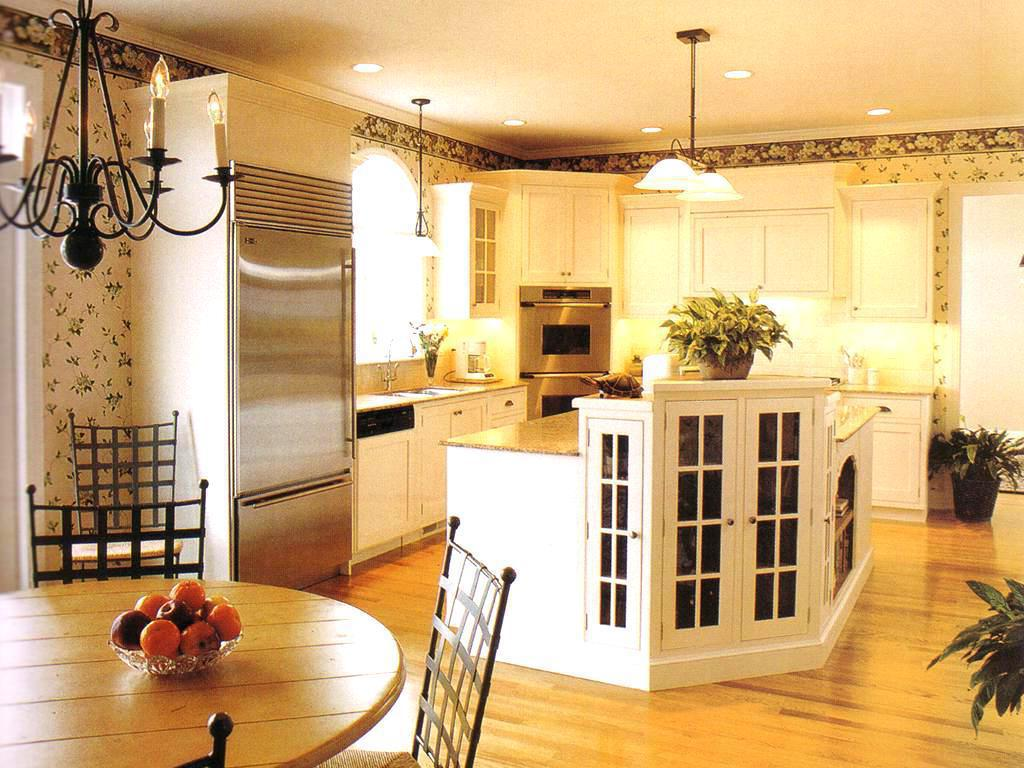Electrodomestico: (225, 241, 347, 585)
